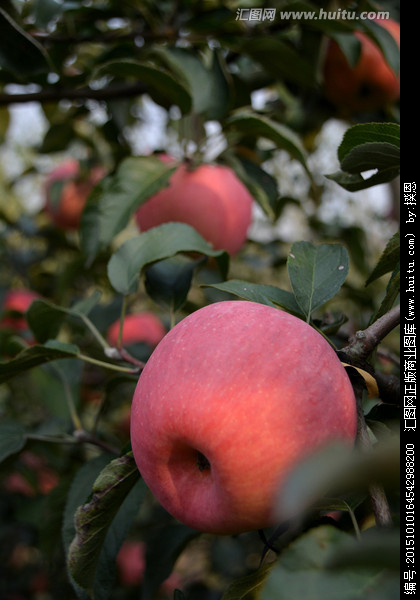apple: (128, 297, 357, 534)
obscured(1)_apple: (134, 156, 250, 259)
obscured(3)_apple: (317, 15, 405, 105)
